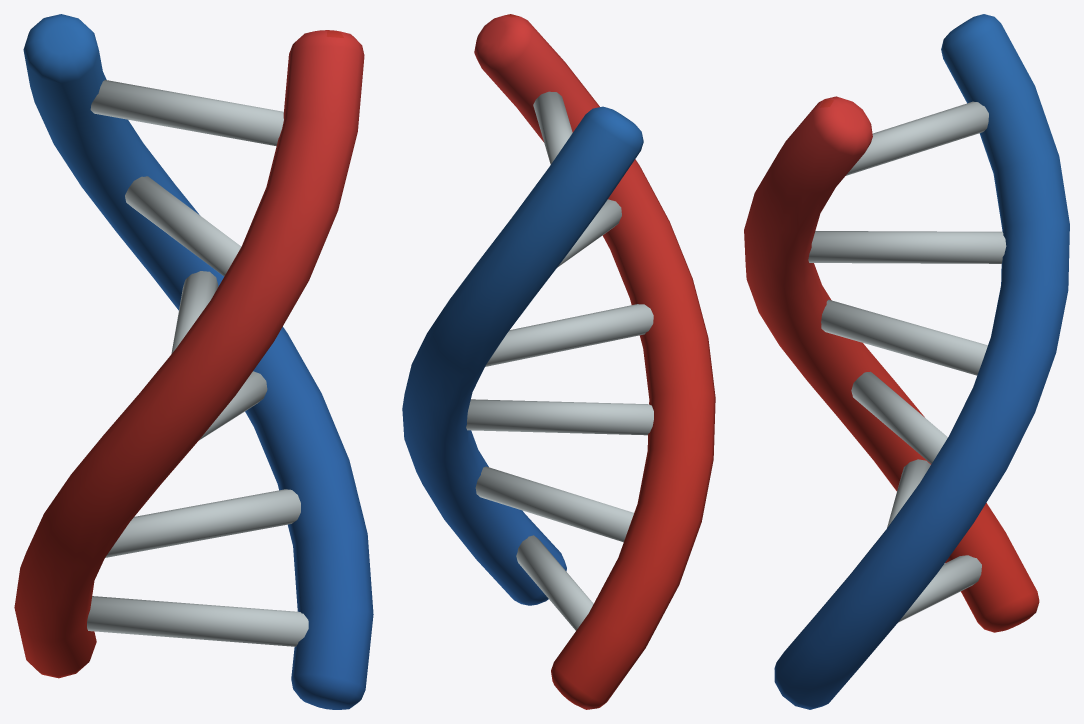
The model's file is DNA_props.fbx.
3 renders of one model, left to right at view 1: azimuth 30°, elevation 25°; view 2: azimuth 150°, elevation 25°; view 3: azimuth 270°, elevation 25°, orthographic. The views are drawn at different scales.
Parts seen in each view (by area): view 1: DNA_props; view 2: DNA_props; view 3: DNA_props.
Part boxes in pixels (box(x1,y1,x2,y2)): DNA_props: box(14, 14, 373, 709); DNA_props: box(402, 14, 715, 709); DNA_props: box(744, 14, 1069, 709).
Bounding box in the file's own units: 0.3334 × 0.6856 × 0.3324.
